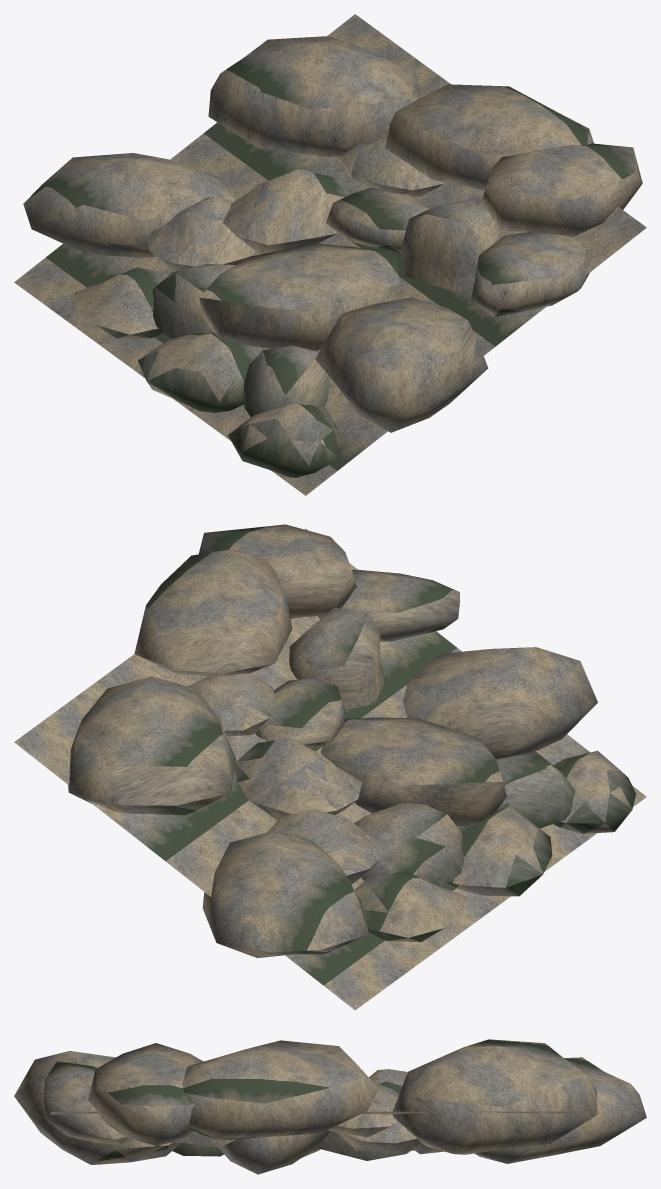
File: SM_Molo_Scogliera_A.fbx
The picture shows the model from 3 angles, top to bottom: view 1: azimuth 30°, elevation 25°; view 2: azimuth 150°, elevation 25°; view 3: azimuth 270°, elevation 25°; orthographic projection. The views are drawn at different scales.
Visible parts, largest first — view 1: SM_Molo_Scogliera_A; view 2: SM_Molo_Scogliera_A; view 3: SM_Molo_Scogliera_A.
Boxes of the visible parts, x1,y1,x2,y2 form: SM_Molo_Scogliera_A: [14, 14, 646, 495]; SM_Molo_Scogliera_A: [14, 524, 646, 1010]; SM_Molo_Scogliera_A: [14, 1039, 646, 1174].
Size of what is drawn, in the model's own units: 654 by 940 by 353.
Materials: 1 (1 with a texture image).
